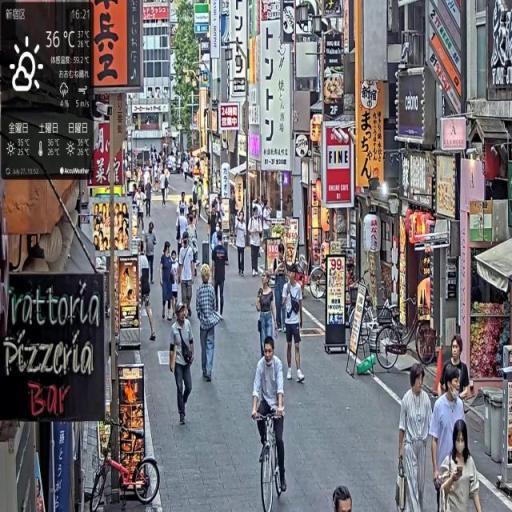person: (396, 364, 439, 512), (252, 333, 289, 494), (430, 367, 467, 510), (441, 420, 484, 512), (169, 299, 196, 430), (195, 265, 222, 384), (282, 264, 305, 384), (257, 272, 279, 360), (443, 336, 472, 401), (211, 230, 230, 321), (179, 233, 197, 320), (140, 250, 157, 342), (161, 243, 176, 325), (249, 206, 264, 279), (235, 208, 249, 277), (145, 219, 159, 287), (170, 248, 182, 321), (161, 168, 170, 209)
